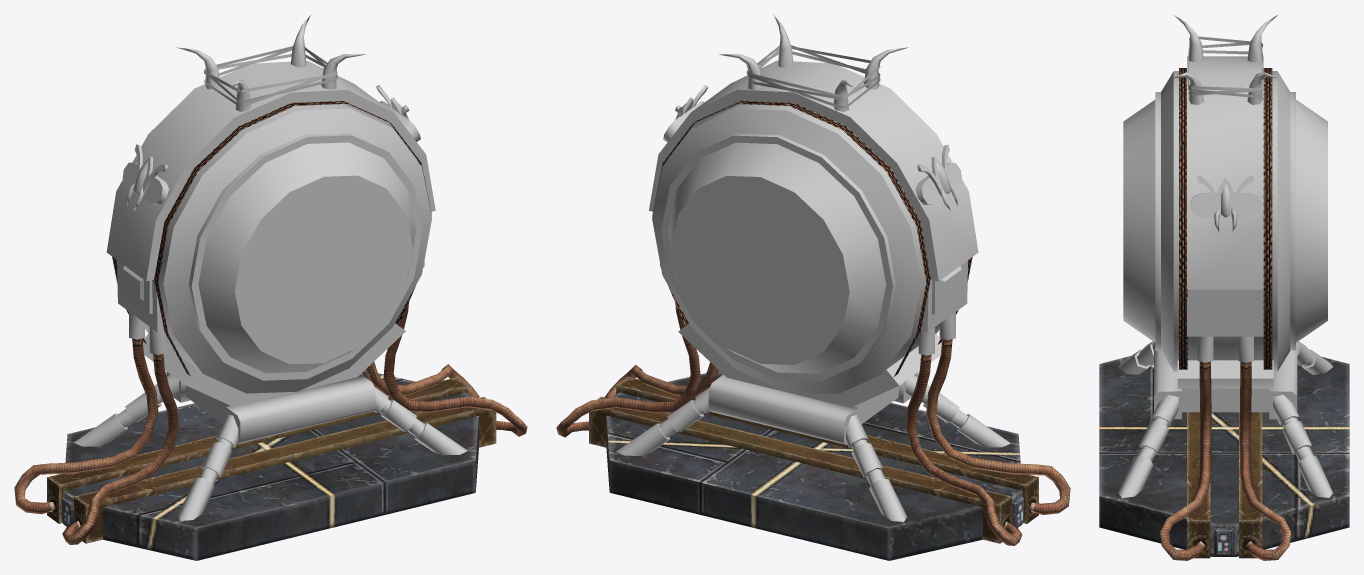
File: eqp_music_giant_gong.fbx
3 views of the same model, side by side, from view 1: azimuth 30°, elevation 25°; view 2: azimuth 150°, elevation 25°; view 3: azimuth 270°, elevation 25° (orthographic). The views are drawn at different scales.
Parts seen in each view (by area): view 1: mesh_node; view 2: mesh_node; view 3: mesh_node.
Boxes of the visible parts, x1=… form: mesh_node: x1=14, y1=15, x2=527, y2=560; mesh_node: x1=556, y1=14, x2=1070, y2=560; mesh_node: x1=1099, y1=14, x2=1349, y2=560.
Size of the model in its own units: 3.34 by 3 by 1.64.
